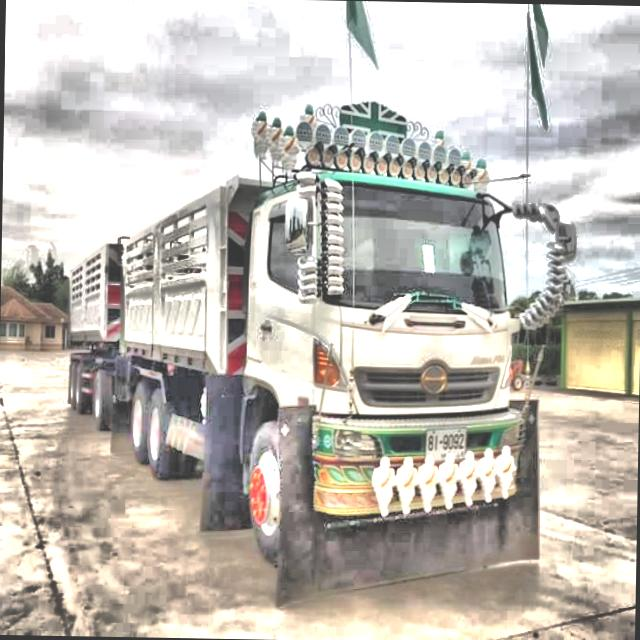trailer: (59, 91, 530, 584)
